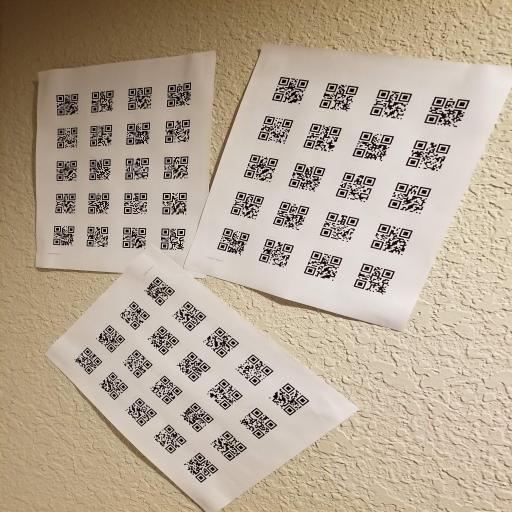qr_code: (424, 97, 470, 127), (388, 182, 431, 214), (406, 140, 450, 171), (354, 263, 395, 296), (370, 224, 413, 255), (352, 131, 394, 162), (271, 382, 309, 416), (370, 90, 413, 120), (206, 379, 243, 412), (235, 354, 273, 386), (336, 172, 376, 202), (320, 212, 360, 242), (304, 251, 343, 281), (240, 408, 277, 439), (209, 431, 247, 461), (303, 123, 342, 152), (184, 452, 219, 484), (203, 327, 239, 358), (319, 83, 358, 111), (288, 163, 325, 192), (175, 352, 210, 382), (243, 154, 279, 183), (273, 201, 309, 230), (154, 424, 187, 455), (180, 403, 214, 433), (259, 239, 294, 268), (272, 77, 309, 104), (149, 375, 182, 405), (172, 302, 206, 331), (258, 116, 293, 144), (148, 326, 180, 356), (230, 192, 264, 220), (144, 276, 175, 306), (95, 324, 126, 354), (121, 349, 153, 378), (125, 398, 157, 427), (217, 228, 250, 256), (120, 301, 150, 331), (99, 372, 128, 401), (75, 348, 102, 375), (165, 119, 190, 144), (167, 82, 191, 108), (128, 87, 152, 111), (163, 156, 188, 179), (160, 228, 186, 250), (91, 90, 114, 114), (126, 122, 150, 145), (125, 158, 149, 181), (162, 193, 187, 215), (90, 125, 113, 148), (88, 159, 111, 181), (124, 192, 147, 214), (122, 227, 146, 248), (56, 94, 78, 116), (88, 193, 109, 215), (57, 127, 77, 150), (86, 227, 108, 247), (57, 160, 77, 181), (55, 193, 76, 213), (53, 226, 75, 245)
